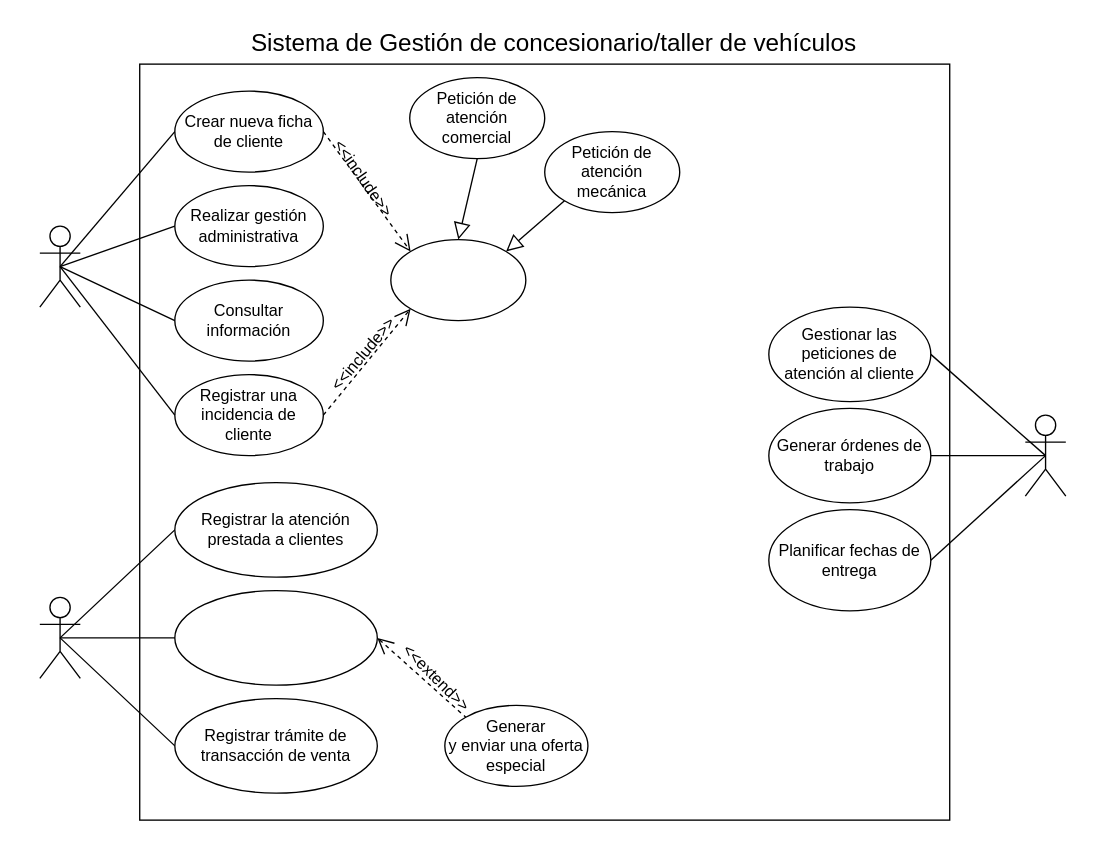
Some shapes in this 1114 by 844 pixel diagram are drawn without their labels. The shapes that lost their labels are listed below. From the top down, each one's box as (x1, y1, x2, y2) in pixels, then its label:
(38, 225, 80, 307): Equipo de recepción
(389, 238, 526, 321): Generar una petición de atención
(1024, 414, 1066, 496): Persona de coordinación del taller
(38, 596, 80, 678): Equipo comercial
(173, 589, 377, 685): Registrar seguimiento de clientes realizado
